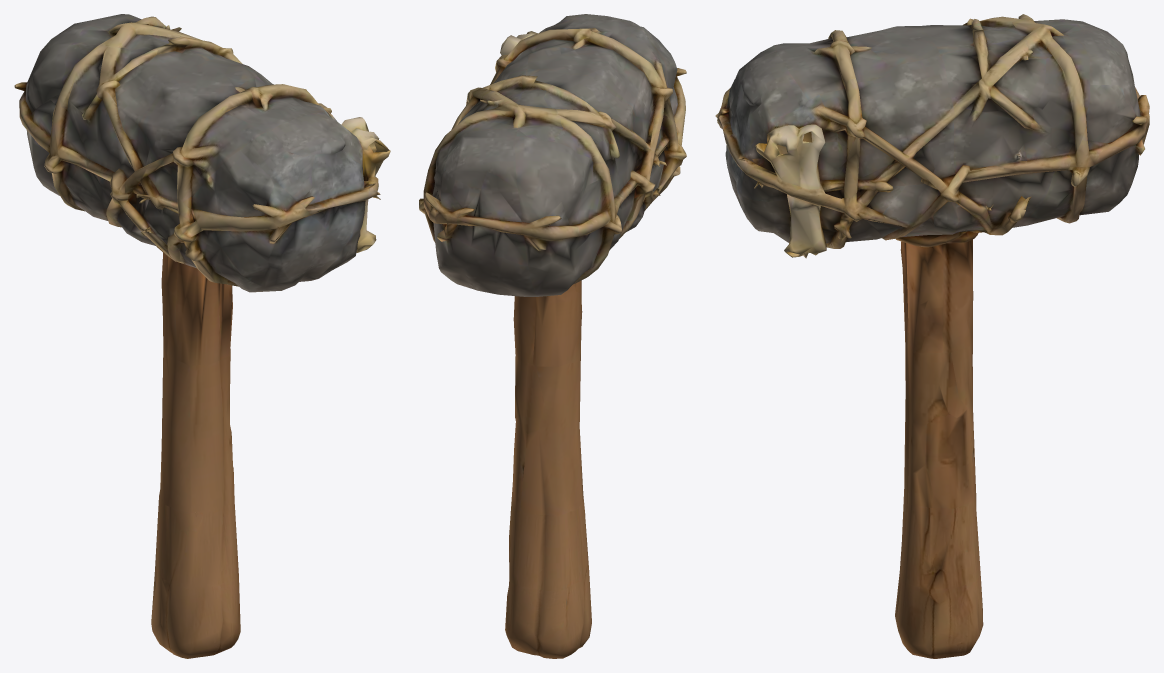
Rendered from martillo_piedra.glb.
The picture shows the model from 3 angles, left to right: view 1: azimuth 30°, elevation 25°; view 2: azimuth 150°, elevation 25°; view 3: azimuth 270°, elevation 25°; orthographic projection. The views are drawn at different scales.
Parts seen in each view (by area): view 1: tripo_node_9cc6795a-4274-4539-94b5-62127faa2e10; view 2: tripo_node_9cc6795a-4274-4539-94b5-62127faa2e10; view 3: tripo_node_9cc6795a-4274-4539-94b5-62127faa2e10.
Part boxes in pixels (x1=…): tripo_node_9cc6795a-4274-4539-94b5-62127faa2e10: x1=14, y1=14, x2=390, y2=658; tripo_node_9cc6795a-4274-4539-94b5-62127faa2e10: x1=419, y1=14, x2=686, y2=658; tripo_node_9cc6795a-4274-4539-94b5-62127faa2e10: x1=715, y1=14, x2=1149, y2=658.
Bounding box in the file's own units: 0.39 × 0.9982 × 0.639.
1 material, 1 textured.
